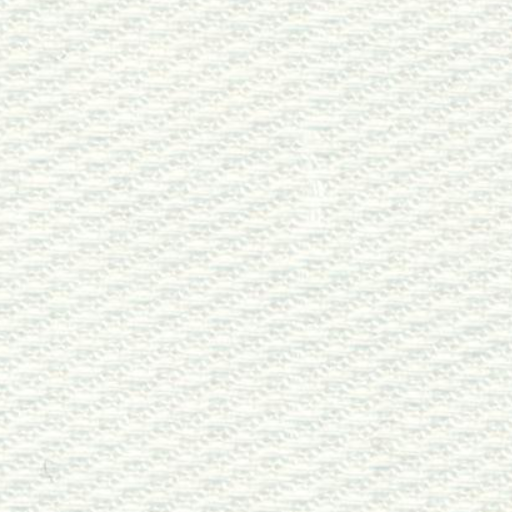TuoSha: (261, 7, 358, 495)
